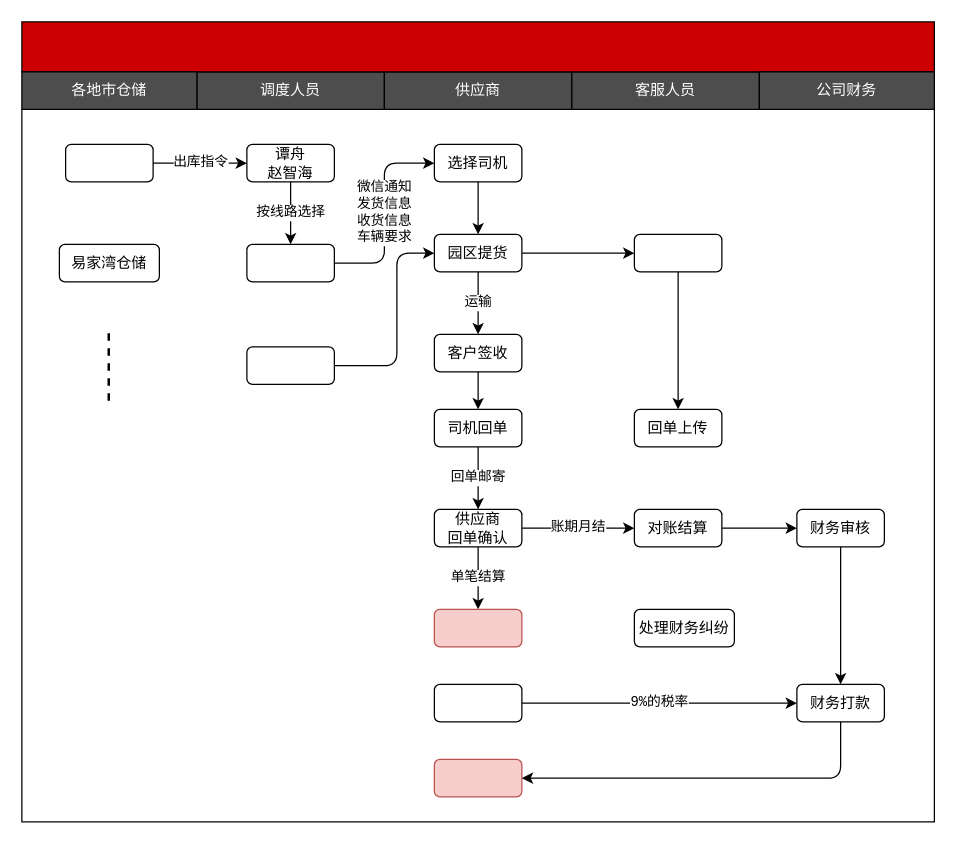
The diagram is 956 pixels wide and 844 high, and some of its shapes have lost their labels. The shapes that lost their labels are listed below. From the top down, each one's box as (x1, y1, x2, y2) in pixels, then its label:
(21, 21, 934, 72): 体系内业务流程
(64, 143, 153, 182): 星沙仓储
(246, 243, 334, 282): 三家不同线路供应商
(633, 233, 722, 272): 通服货嘀 录单
(246, 346, 334, 384): 发货 引导入园
(433, 608, 522, 647): 司机收款
(433, 683, 522, 722): 月结发票
(433, 758, 522, 797): 供应商收款
